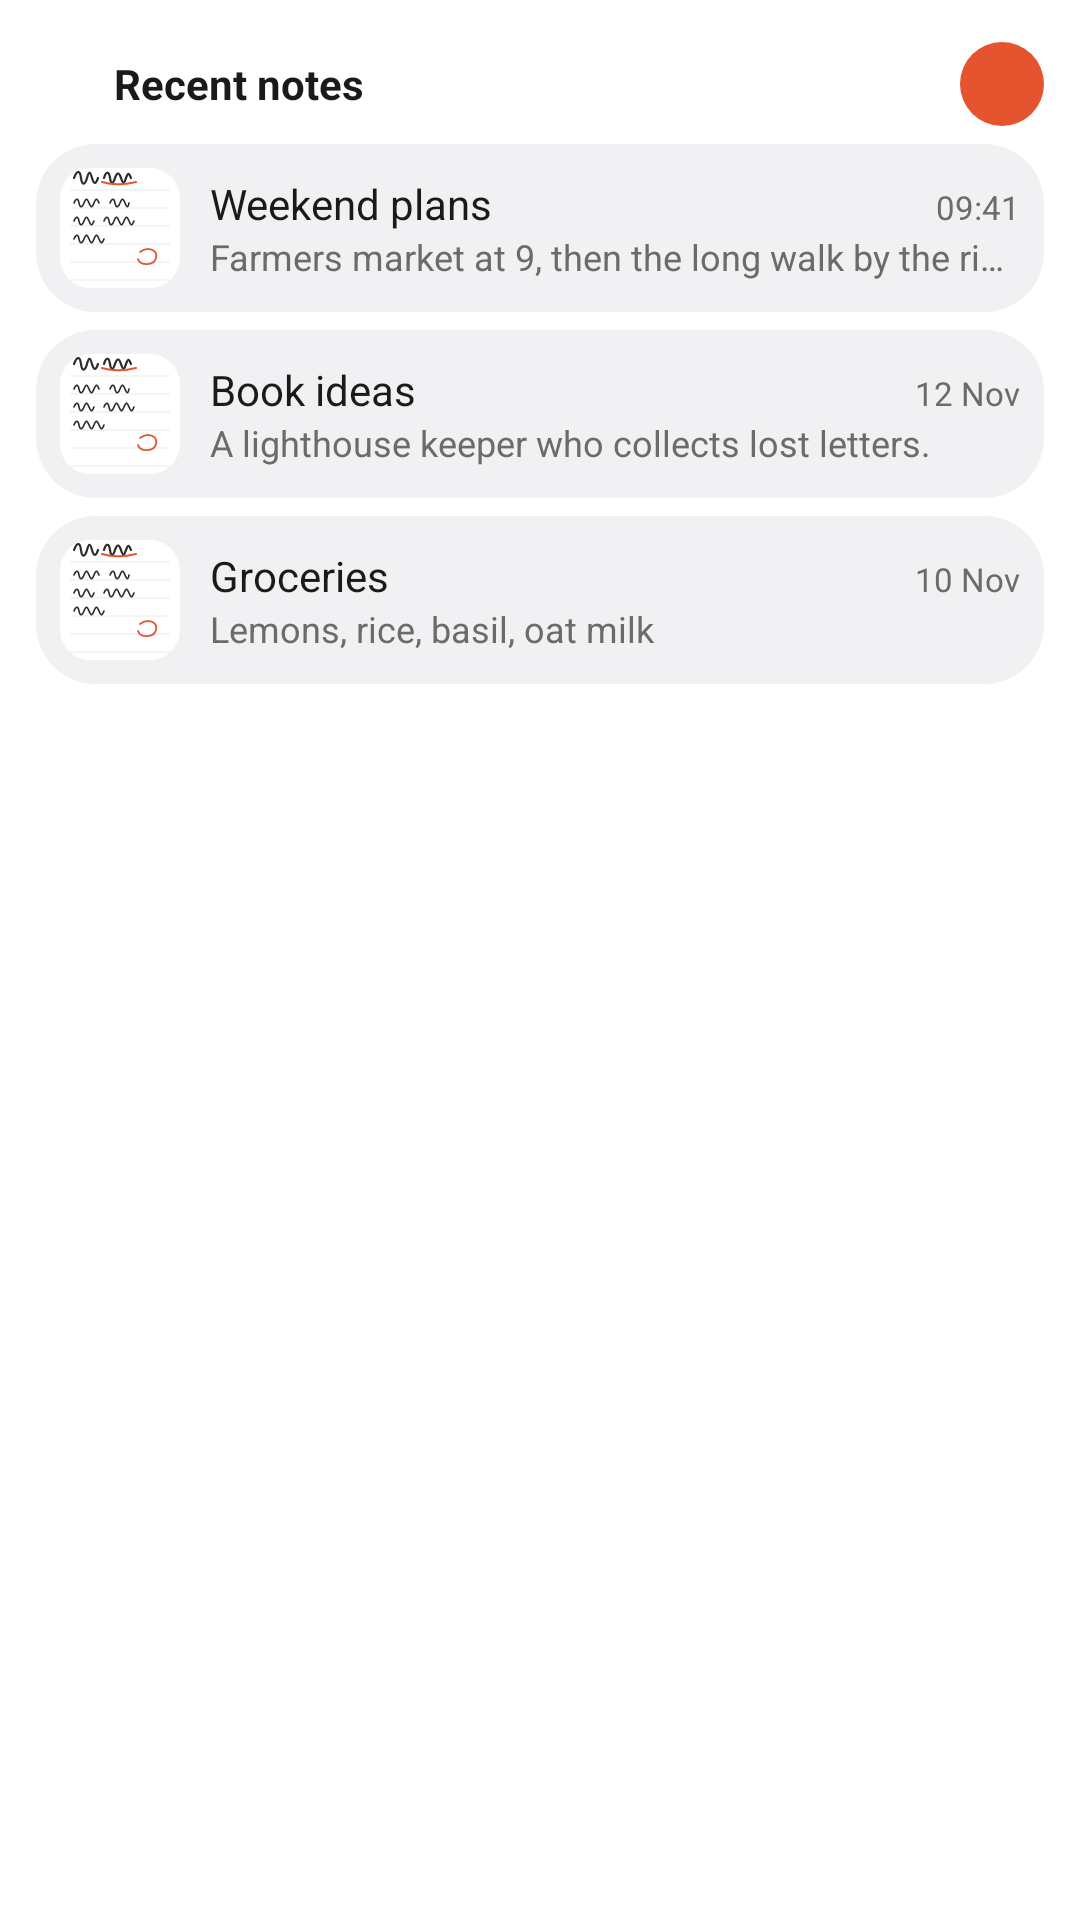

Point at icon controls on the screen. Image size 1080px x 1920px, points as point (x, y).
widget pv page: point (120, 228), point (120, 414), point (120, 600)
